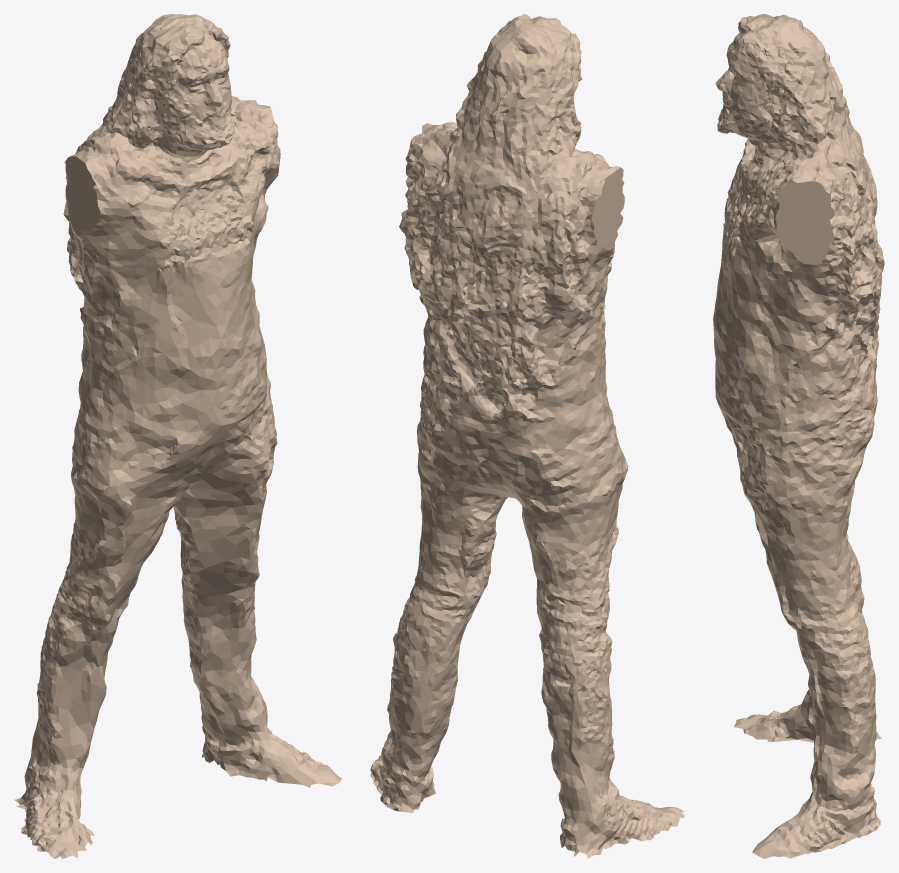
File: silas.fbx
3 renders of one model, left to right at view 1: azimuth 30°, elevation 25°; view 2: azimuth 150°, elevation 25°; view 3: azimuth 270°, elevation 25°, orthographic. The views are drawn at different scales.
Parts seen in each view (by area): view 1: Mesh_0.001; view 2: Mesh_0.001; view 3: Mesh_0.001.
Part boxes in pixels (<box>): Mesh_0.001: <box>14,14,341,858</box>; Mesh_0.001: <box>370,14,684,858</box>; Mesh_0.001: <box>713,14,884,858</box>.
Size of the model in its own units: 79.4 by 199 by 40.36.
